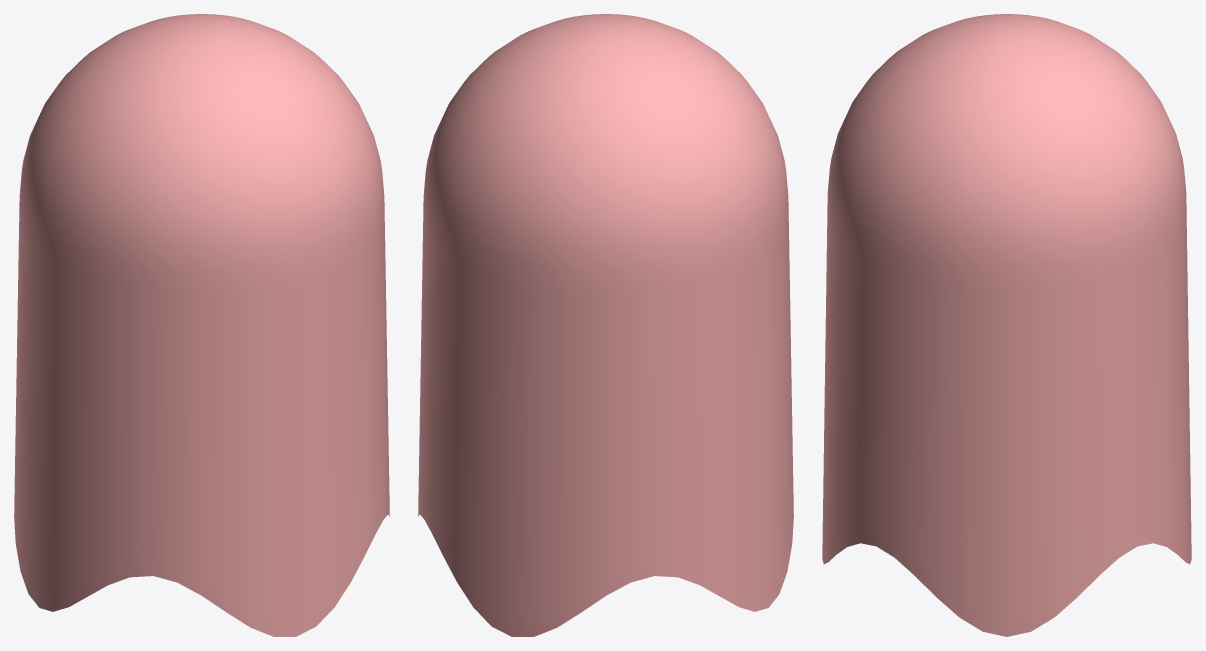
File: ghost-red.glb
The picture shows the model from 3 angles, left to right: view 1: azimuth 30°, elevation 25°; view 2: azimuth 150°, elevation 25°; view 3: azimuth 270°, elevation 25°; orthographic projection.
Parts seen in each view (by area): view 1: Ghost; view 2: Ghost; view 3: Ghost.
Part boxes in pixels (bbox=[...]): Ghost: bbox=[14, 14, 389, 636]; Ghost: bbox=[418, 14, 793, 636]; Ghost: bbox=[822, 14, 1191, 636].
Size of the model in its own units: 0.9888 by 1.56 by 0.9888.
